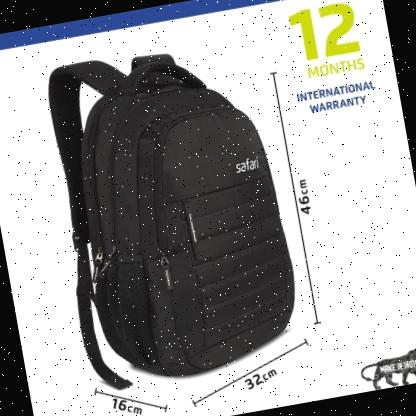bag: (30, 22, 318, 402)
